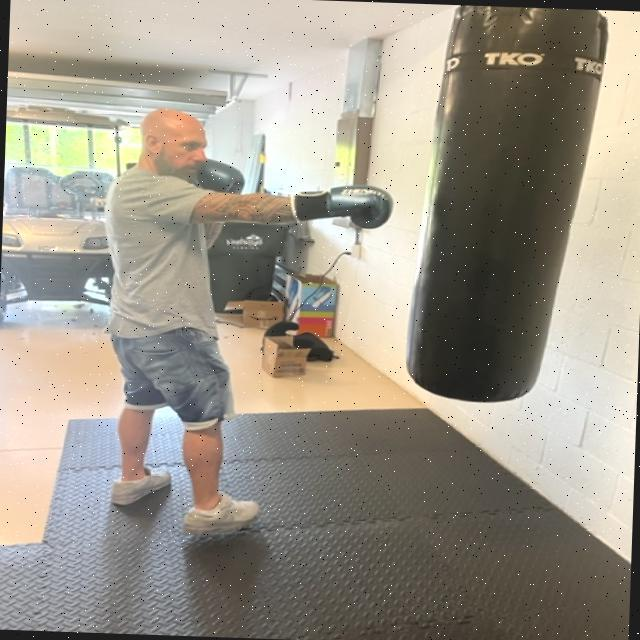jab: (107, 96, 414, 247)
